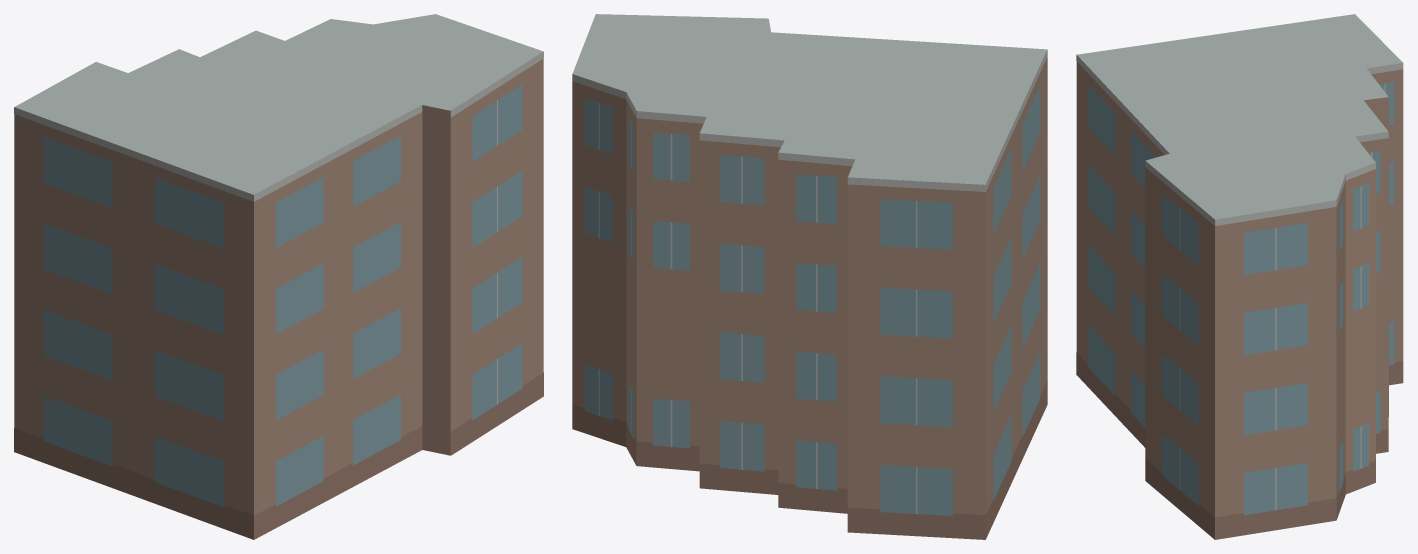
Rendered from survey-upis-32676816.glb.
3 renders of one model, left to right at view 1: azimuth 30°, elevation 25°; view 2: azimuth 150°, elevation 25°; view 3: azimuth 270°, elevation 25°, orthographic. The views are drawn at different scales.
Parts seen in each view (by area): view 1: survey-upis-32676816.tmp; view 2: survey-upis-32676816.tmp; view 3: survey-upis-32676816.tmp.
Part boxes in pixels (x1,y1,x2,y2): survey-upis-32676816.tmp: (14, 14, 543, 539); survey-upis-32676816.tmp: (572, 14, 1047, 539); survey-upis-32676816.tmp: (1076, 14, 1403, 539).
Size of the model in its own units: 16.82 by 12.2 by 11.29.
